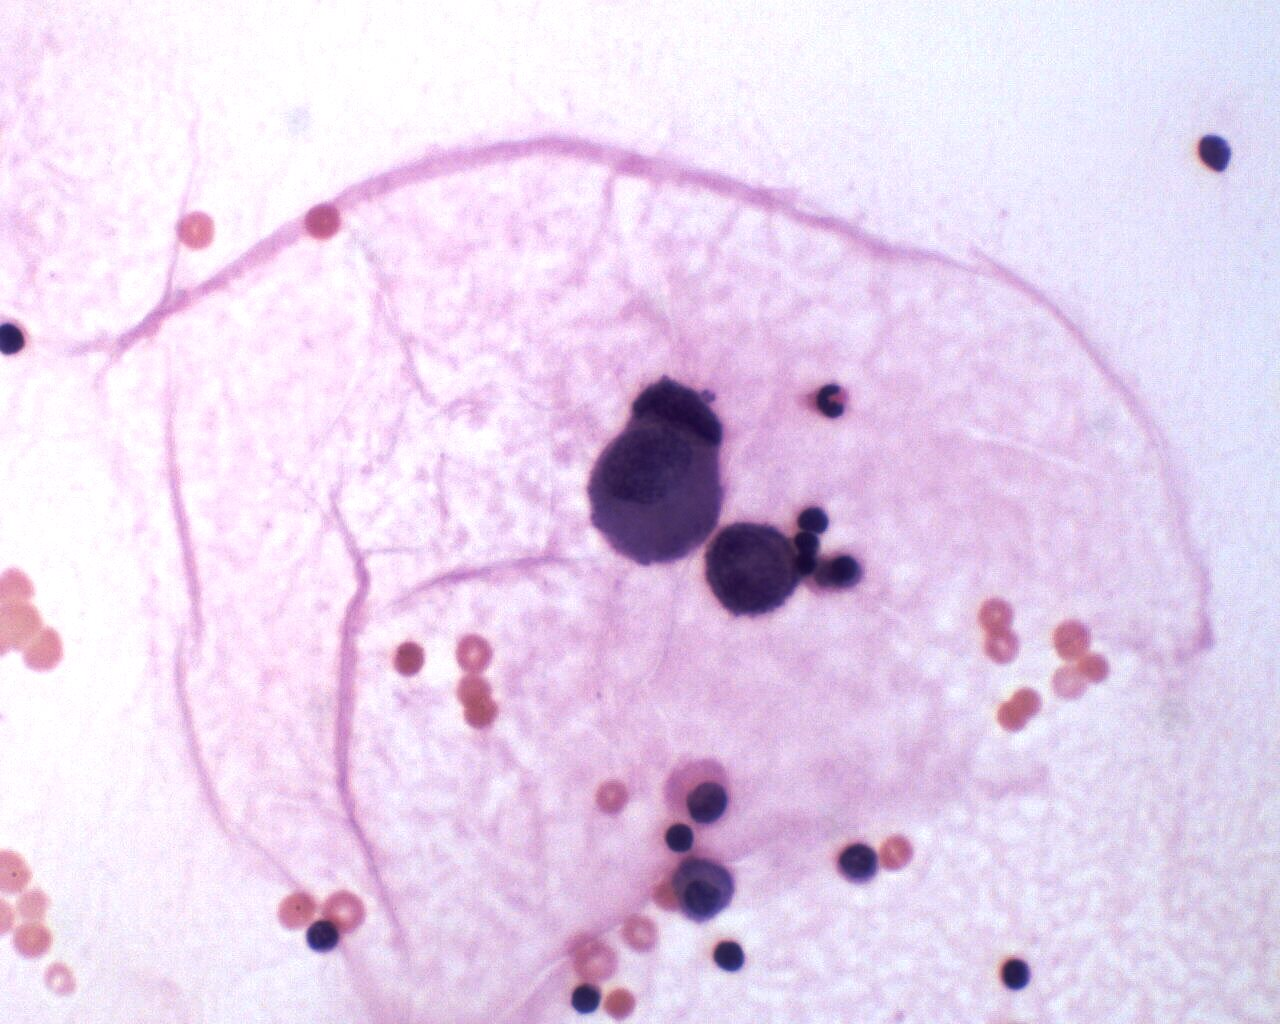ab: (579, 416, 723, 567), (703, 518, 807, 624), (665, 850, 742, 926)
lymph: (990, 949, 1044, 999), (296, 914, 345, 960), (708, 932, 752, 978), (660, 812, 699, 854)
meso: (659, 751, 734, 827)
neutro: (809, 376, 856, 426)
